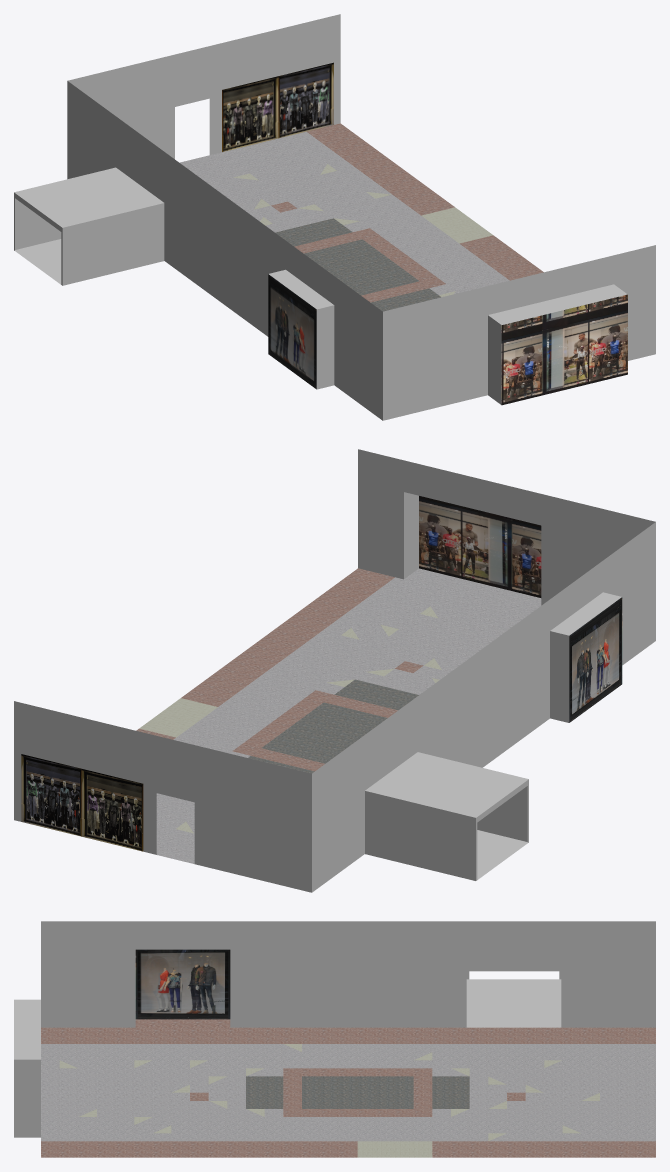
Rendered from OW_MallWall_01.FBX.
3 renders of one model, top to bottom at view 1: azimuth 30°, elevation 25°; view 2: azimuth 150°, elevation 25°; view 3: azimuth 270°, elevation 25°, orthographic. The views are drawn at different scales.
Visible parts, largest first — view 1: OW_MallWall_01; view 2: OW_MallWall_01; view 3: OW_MallWall_01.
Boxes of the visible parts, x1,y1,x2,y2 form: OW_MallWall_01: (14, 14, 655, 420); OW_MallWall_01: (14, 449, 655, 892); OW_MallWall_01: (14, 921, 655, 1157).
Size of the model in its own units: 1841 by 512 by 2799.
